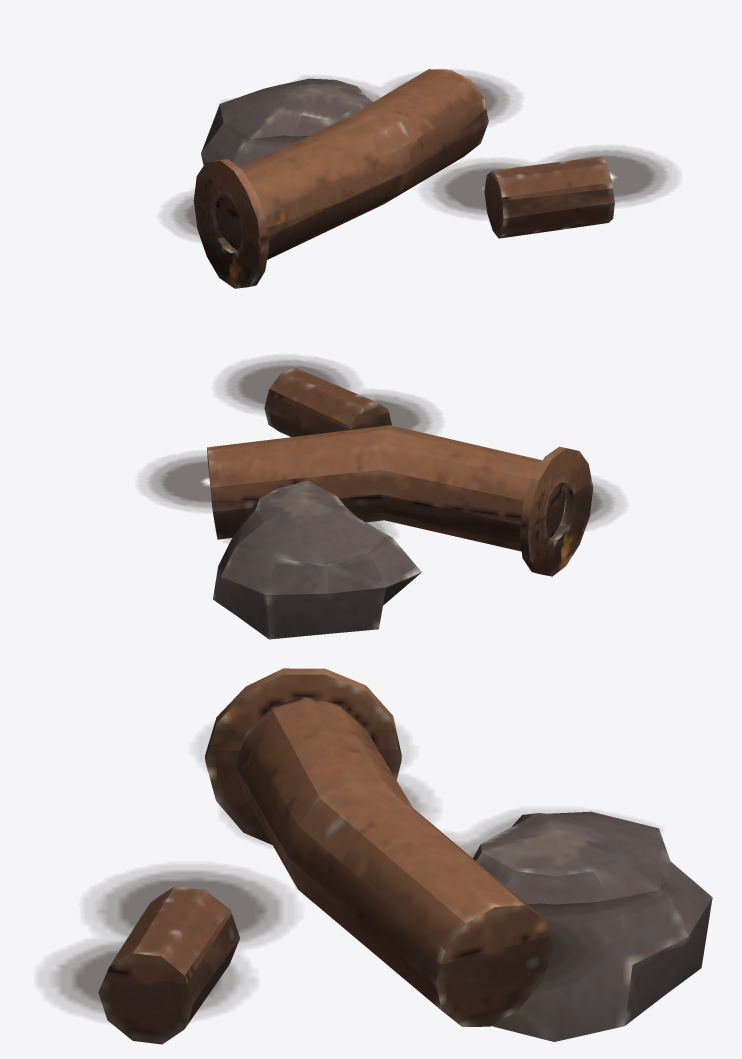
3 views of the same model, one above another, from view 1: azimuth 30°, elevation 25°; view 2: azimuth 150°, elevation 25°; view 3: azimuth 270°, elevation 25° (orthographic). The views are drawn at different scales.
Visible parts, largest first — view 1: Pipe, GroundShade, PipeStone; view 2: Pipe, PipeStone, GroundShade; view 3: Pipe, GroundShade, PipeStone.
Boxes of the visible parts, bbox=[...] form: Pipe: bbox=[193, 69, 614, 288]; GroundShade: bbox=[162, 71, 677, 245]; PipeStone: bbox=[201, 78, 372, 167]; Pipe: bbox=[207, 367, 593, 576]; PipeStone: bbox=[213, 480, 421, 639]; GroundShade: bbox=[140, 356, 624, 562]; Pipe: bbox=[98, 668, 552, 1044]; GroundShade: bbox=[40, 729, 668, 1024]; PipeStone: bbox=[473, 811, 712, 1041].
Bounding box in the file's own units: 12.8 × 3.34 × 11.31.
Materials: 3 (3 with a texture image).
